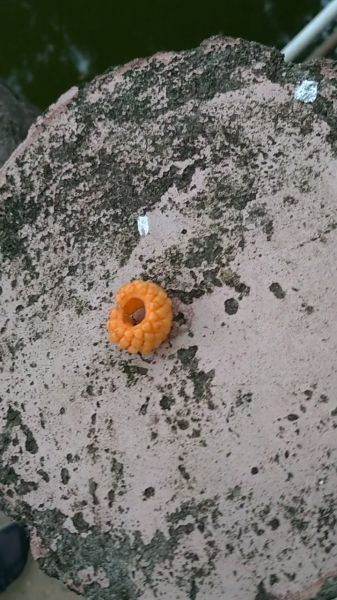eggs: (102, 278, 177, 353)
